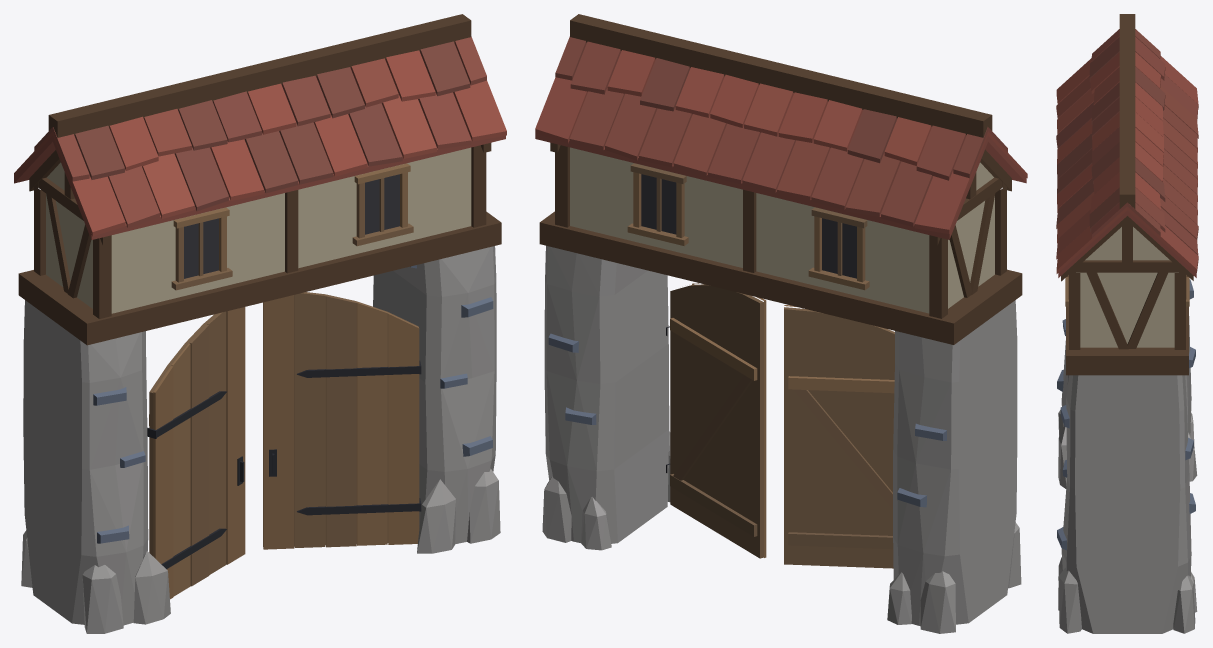
Rendered from stage0_village_gatehouse.glb.
3 renders of one model, left to right at view 1: azimuth 30°, elevation 25°; view 2: azimuth 150°, elevation 25°; view 3: azimuth 270°, elevation 25°, orthographic. The views are drawn at different scales.
Parts seen in each view (by area): view 1: gatehouse-shell, gate-leaf-r, gate-leaf-l; view 2: gatehouse-shell, gate-leaf-l, gate-leaf-r; view 3: gatehouse-shell.
Boxes of the visible parts, x1=… form: gatehouse-shell: x1=14, y1=14, x2=506, y2=633; gate-leaf-r: x1=263, y1=292, x2=421, y2=549; gate-leaf-l: x1=147, y1=307, x2=245, y2=599; gatehouse-shell: x1=535, y1=14, x2=1027, y2=633; gate-leaf-l: x1=784, y1=305, x2=894, y2=568; gate-leaf-r: x1=666, y1=283, x2=766, y2=558; gatehouse-shell: x1=1056, y1=14, x2=1198, y2=633.
Size of the model in its own units: 6 by 6.8 by 1.99.
